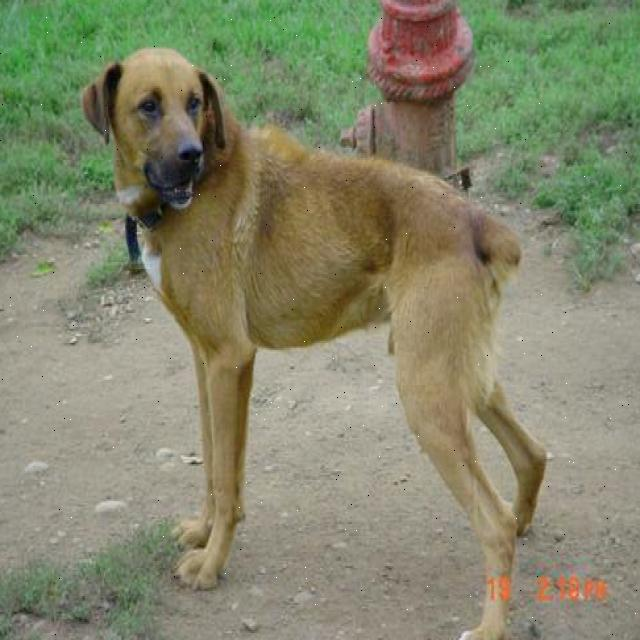Dog: (76, 28, 237, 225)
